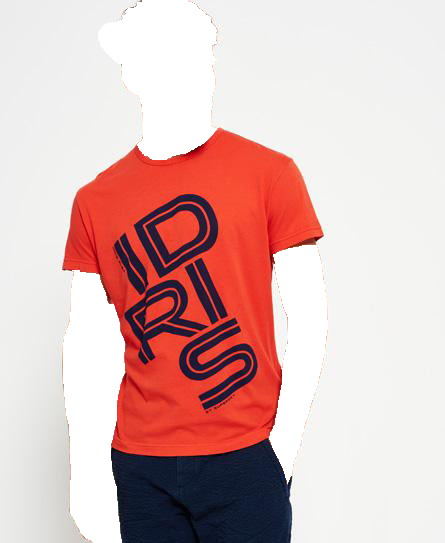teeshirt: (61, 127, 324, 465)
